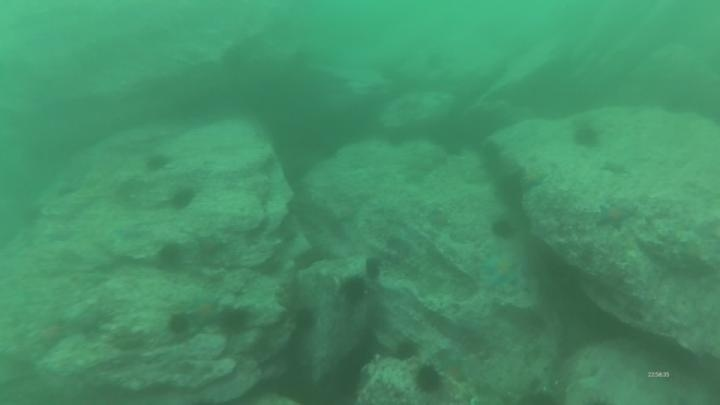echinus: (492, 170, 527, 209), (216, 303, 253, 338), (291, 243, 331, 274), (411, 362, 446, 396), (154, 240, 188, 273), (338, 273, 370, 306), (570, 121, 603, 151), (167, 184, 198, 213), (391, 335, 422, 363), (291, 304, 319, 335), (165, 310, 194, 339), (489, 215, 518, 243), (142, 150, 173, 175), (362, 255, 385, 283)
starfish: (479, 249, 524, 290), (29, 316, 72, 353), (594, 199, 638, 232), (185, 294, 224, 330), (193, 231, 228, 264), (107, 218, 148, 244), (517, 162, 550, 192), (42, 221, 79, 245), (441, 356, 471, 385), (599, 157, 631, 178)
